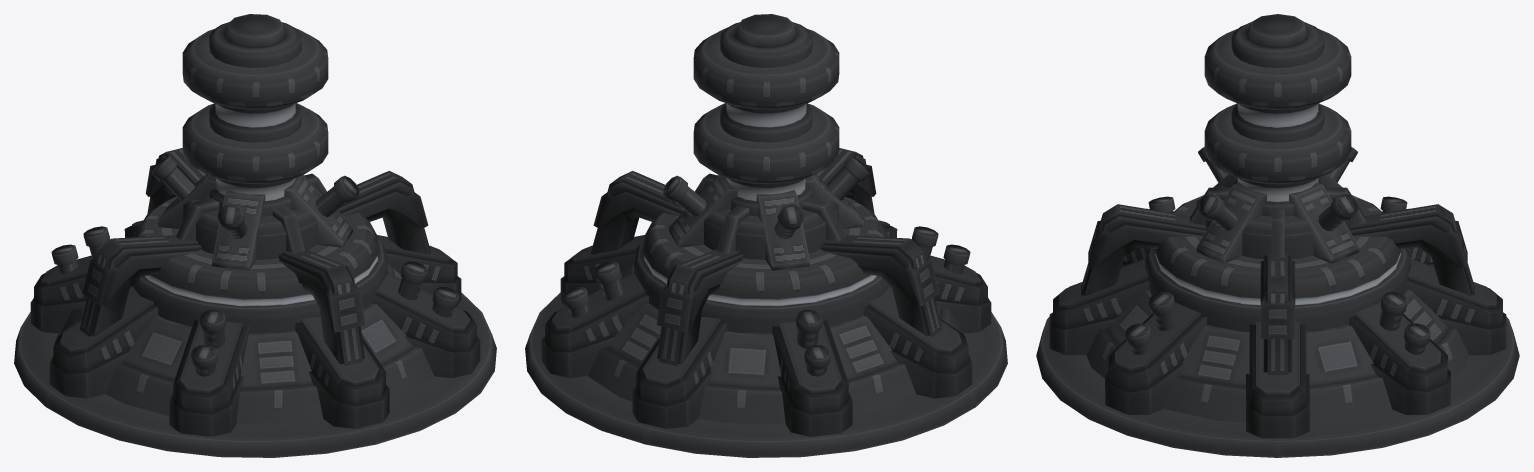
Rendered from Power Capacitor Medium Model.fbx.
3 renders of one model, left to right at view 1: azimuth 30°, elevation 25°; view 2: azimuth 150°, elevation 25°; view 3: azimuth 270°, elevation 25°, orthographic.
Visible parts, largest first — view 1: polySurface492; view 2: polySurface492; view 3: polySurface492.
Part boxes in pixels (x1=…): polySurface492: x1=14, y1=14, x2=496, y2=457; polySurface492: x1=525, y1=14, x2=1007, y2=457; polySurface492: x1=1036, y1=14, x2=1519, y2=457.
Size of the model in its own units: 2.97 by 2.23 by 2.97.
